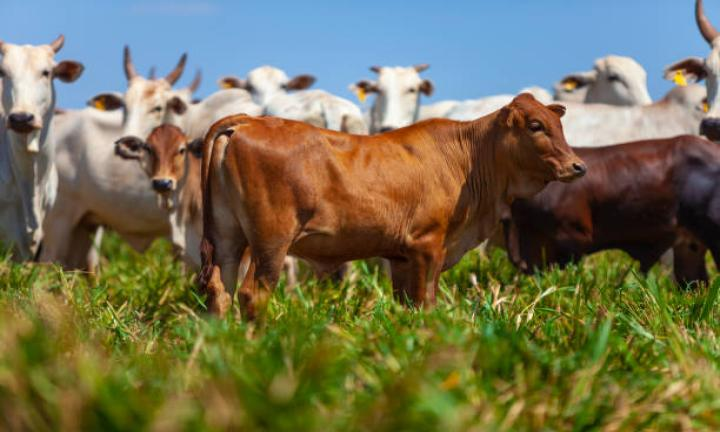Brahman: (200, 94, 586, 316)
